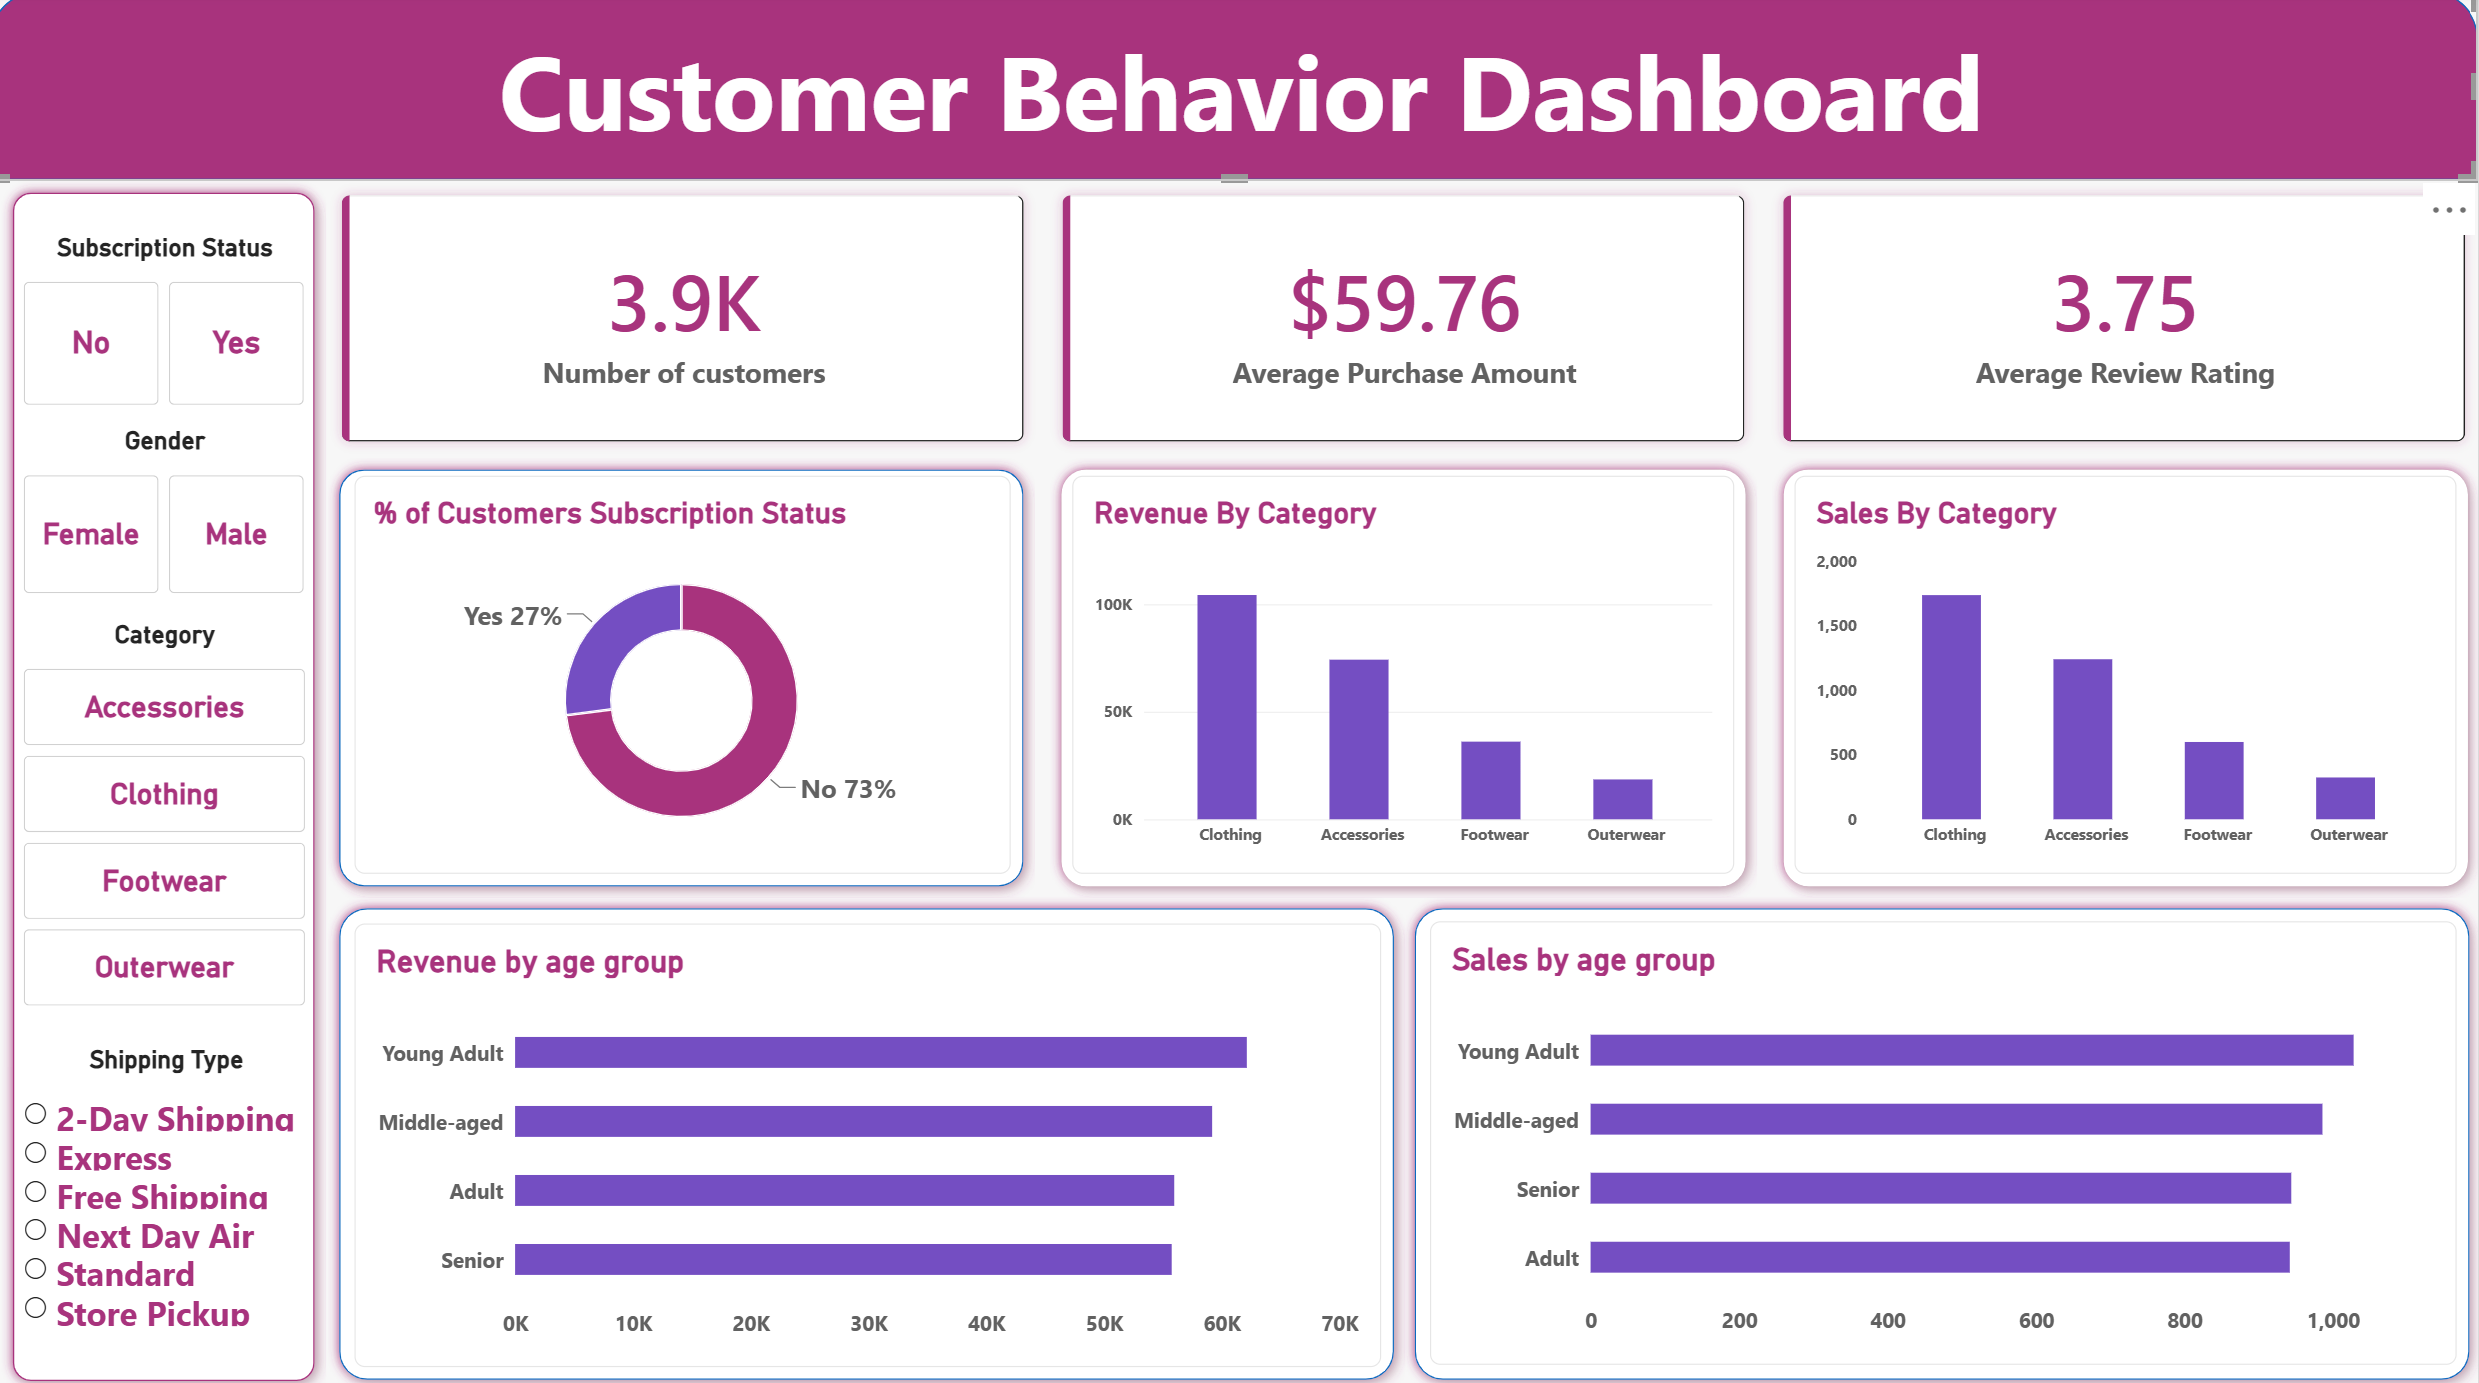

What the dashboard file says about the page in this screenshot:
{"tool":"powerbi","page":{"name":"Page 1","canvas":[1920,1080],"ordinal":0},"visuals":[{"type":"cardVisual","fields":{"Data":["public customer.Number of customers","public customer.Average Purchase Amount","public customer.Average Review Rating"]},"box":[260,145,1660,212.5],"z":0},{"type":"shape","box":[0,0,1920,145],"z":1000},{"type":"textbox","box":[10,20,1910,107.5],"z":2000},{"type":"shape","box":[260,358.4,545.9,339.7],"z":3000},{"type":"donutChart","title":"% of Customers Subscription Status","fields":{"Category":["public customer.subscription_status"],"Y":["CountNonNull(public customer.customer_id)"]},"box":[281.1,372.5,506,306.9],"z":4000},{"type":"shape","box":[817.6,358.4,545.9,339.7],"z":5000},{"type":"shape","box":[1375.2,358.4,545.9,339.7],"z":6000},{"type":"clusteredColumnChart","title":"Revenue By Category","fields":{"Category":["public customer.category"],"Y":["Sum(public customer.purchase_amount)"]},"box":[834,372.5,510.7,306.9],"z":7000},{"type":"clusteredColumnChart","title":"Sales By Category","fields":{"Category":["public customer.category"],"Y":["CountNonNull(public customer.customer_id)"]},"box":[1391.6,372.5,510.7,306.9],"z":8000},{"type":"shape","box":[9.4,145.3,250.7,934.8],"z":9000},{"type":"advancedSlicerVisual","fields":{"Values":["public customer.subscription_status"]},"box":[25.8,185.1,217.9,133.5],"z":10000},{"type":"advancedSlicerVisual","fields":{"Values":["public customer.gender"]},"box":[25.8,335,217.9,128.9],"z":11000},{"type":"advancedSlicerVisual","fields":{"Values":["public customer.category"]},"box":[25.8,485,217.9,299.9],"z":12000},{"type":"listSlicer","fields":{"Values":["public customer.shipping_type"]},"box":[25.8,812.9,220.2,246],"z":13000},{"type":"shape","box":[260,698.1,831.7,381.9],"z":14000},{"type":"clusteredBarChart","title":"Revenue by age group","fields":{"Category":["public customer.age_group"],"Y":["Sum(public customer.purchase_amount)"]},"box":[281.1,719.2,791.9,342],"z":15000},{"type":"shape","box":[1089.4,698.1,831.7,381.9],"z":16000},{"type":"clusteredBarChart","title":"Sales by age group","fields":{"Category":["public customer.age_group"],"Y":["CountNonNull(public customer.purchase_amount)"]},"box":[1110.5,716.9,791.9,342],"z":17000}]}

Visuals, with their boxes in screenshot pixels (x1, y1, x2, y2), scaled from the page's 1920x1080 canvas onto the 2479x1383 screenshot:
cardVisual - public customer.Number of customers x public customer.Average Purchase Amount: [x1=336, y1=186, x2=2478, y2=458]
shape: [x1=0, y1=0, x2=2478, y2=186]
textbox: [x1=13, y1=26, x2=2478, y2=163]
shape: [x1=336, y1=459, x2=1041, y2=894]
"% of Customers Subscription Status" donutChart: [x1=363, y1=477, x2=1016, y2=870]
shape: [x1=1056, y1=459, x2=1760, y2=894]
shape: [x1=1776, y1=459, x2=2478, y2=894]
"Revenue By Category" clusteredColumnChart: [x1=1077, y1=477, x2=1736, y2=870]
"Sales By Category" clusteredColumnChart: [x1=1797, y1=477, x2=2456, y2=870]
shape: [x1=12, y1=186, x2=336, y2=1382]
advancedSlicerVisual - public customer.subscription_status: [x1=33, y1=237, x2=315, y2=408]
advancedSlicerVisual - public customer.gender: [x1=33, y1=429, x2=315, y2=594]
advancedSlicerVisual - public customer.category: [x1=33, y1=621, x2=315, y2=1005]
listSlicer - public customer.shipping_type: [x1=33, y1=1041, x2=318, y2=1356]
shape: [x1=336, y1=894, x2=1410, y2=1382]
"Revenue by age group" clusteredBarChart: [x1=363, y1=921, x2=1385, y2=1359]
shape: [x1=1407, y1=894, x2=2478, y2=1382]
"Sales by age group" clusteredBarChart: [x1=1434, y1=918, x2=2456, y2=1356]
